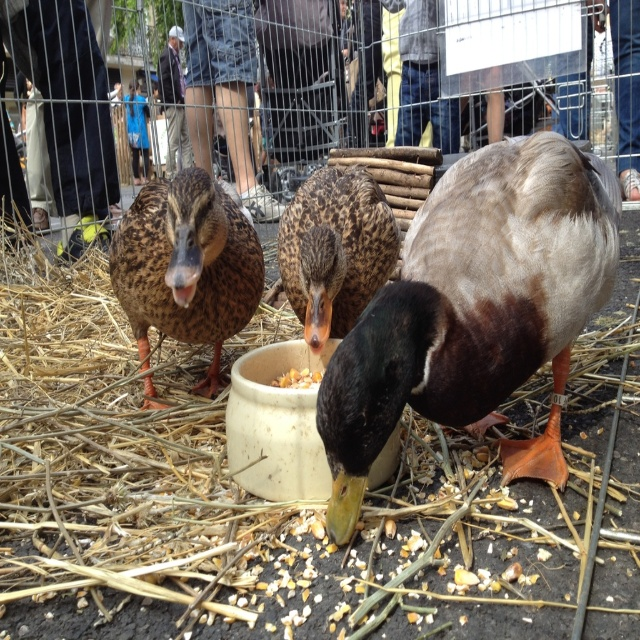Duck: (310, 127, 625, 558), (110, 161, 267, 406), (269, 156, 400, 365)
